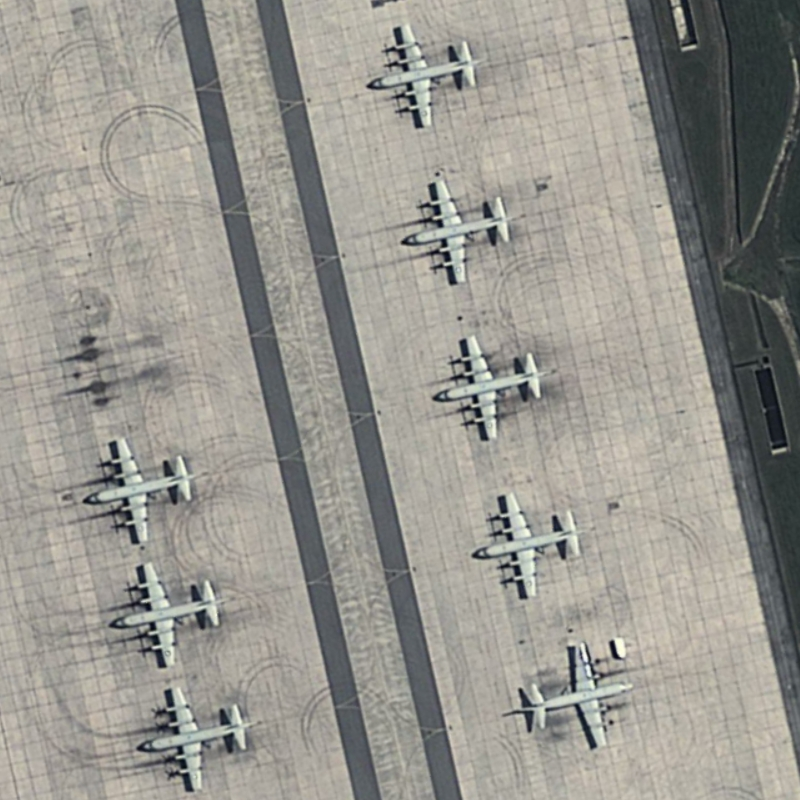A9: (72, 430, 204, 552), (429, 325, 557, 449), (398, 172, 532, 289), (505, 635, 640, 750), (130, 678, 260, 797), (105, 555, 230, 674), (466, 484, 588, 605), (362, 16, 485, 131)
